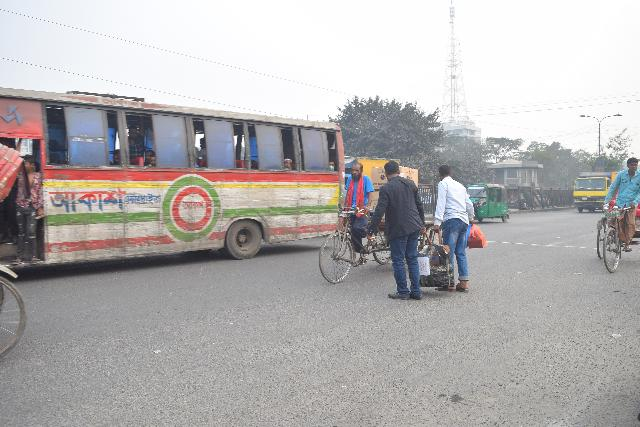bus: (0, 81, 343, 275)
truck: (570, 169, 617, 212)
